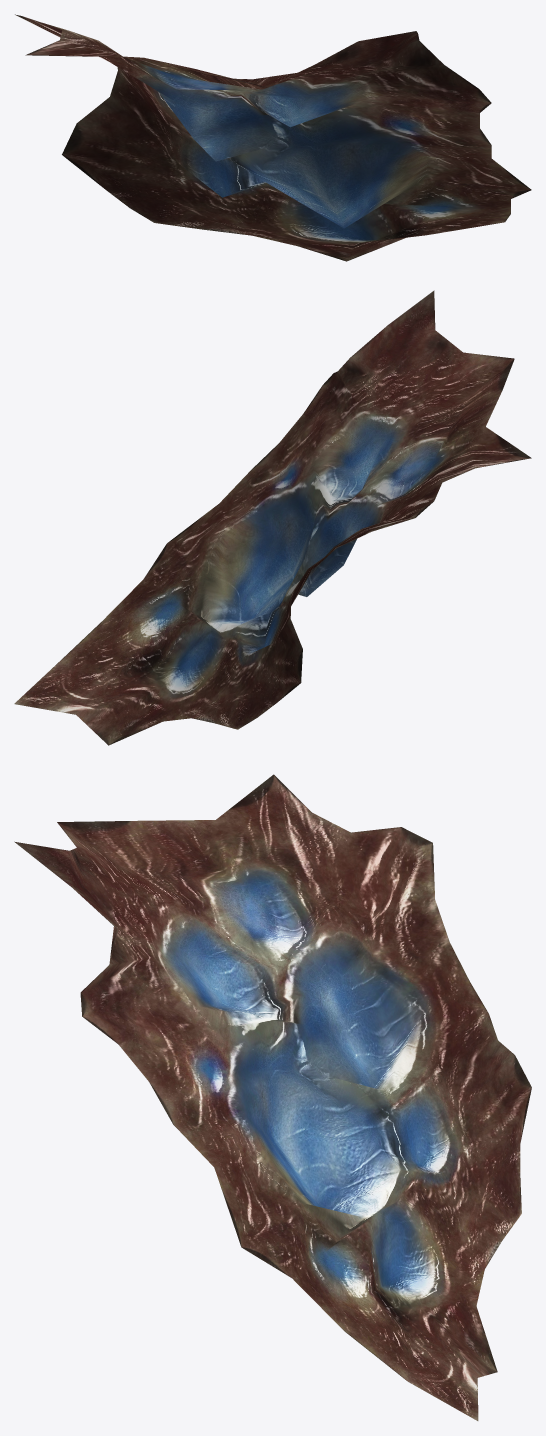
File: FBX_goo_corner.fbx
The picture shows the model from 3 angles, top to bottom: view 1: azimuth 30°, elevation 25°; view 2: azimuth 150°, elevation 25°; view 3: azimuth 270°, elevation 25°; orthographic projection. The views are drawn at different scales.
Parts seen in each view (by area): view 1: goo_corner_geo; view 2: goo_corner_geo; view 3: goo_corner_geo.
Part boxes in pixels (x1,y1,x2,y2): goo_corner_geo: [15, 14, 531, 261]; goo_corner_geo: [14, 290, 531, 745]; goo_corner_geo: [14, 774, 531, 1420].
Bounding box in the file's own units: 2.89 × 2.32 × 2.2.
